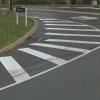Crosswalk: (34, 11, 92, 85)
